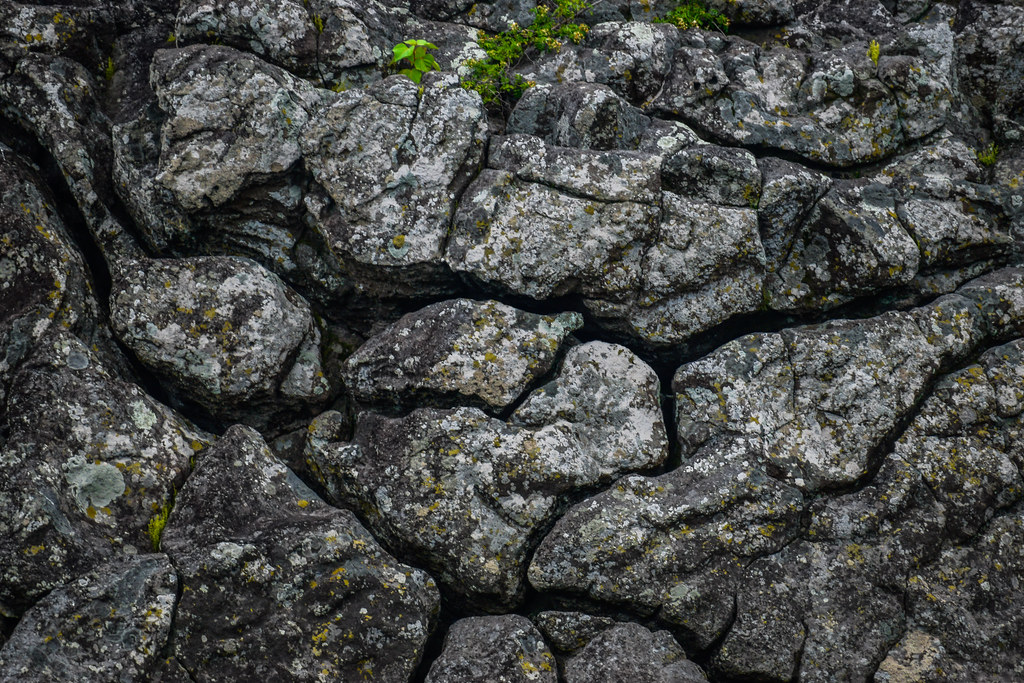volcanic_rock: (492, 29, 1008, 329), (555, 303, 1021, 632), (139, 37, 476, 274), (142, 429, 442, 672), (100, 243, 334, 424), (473, 340, 676, 506), (326, 308, 589, 408)
